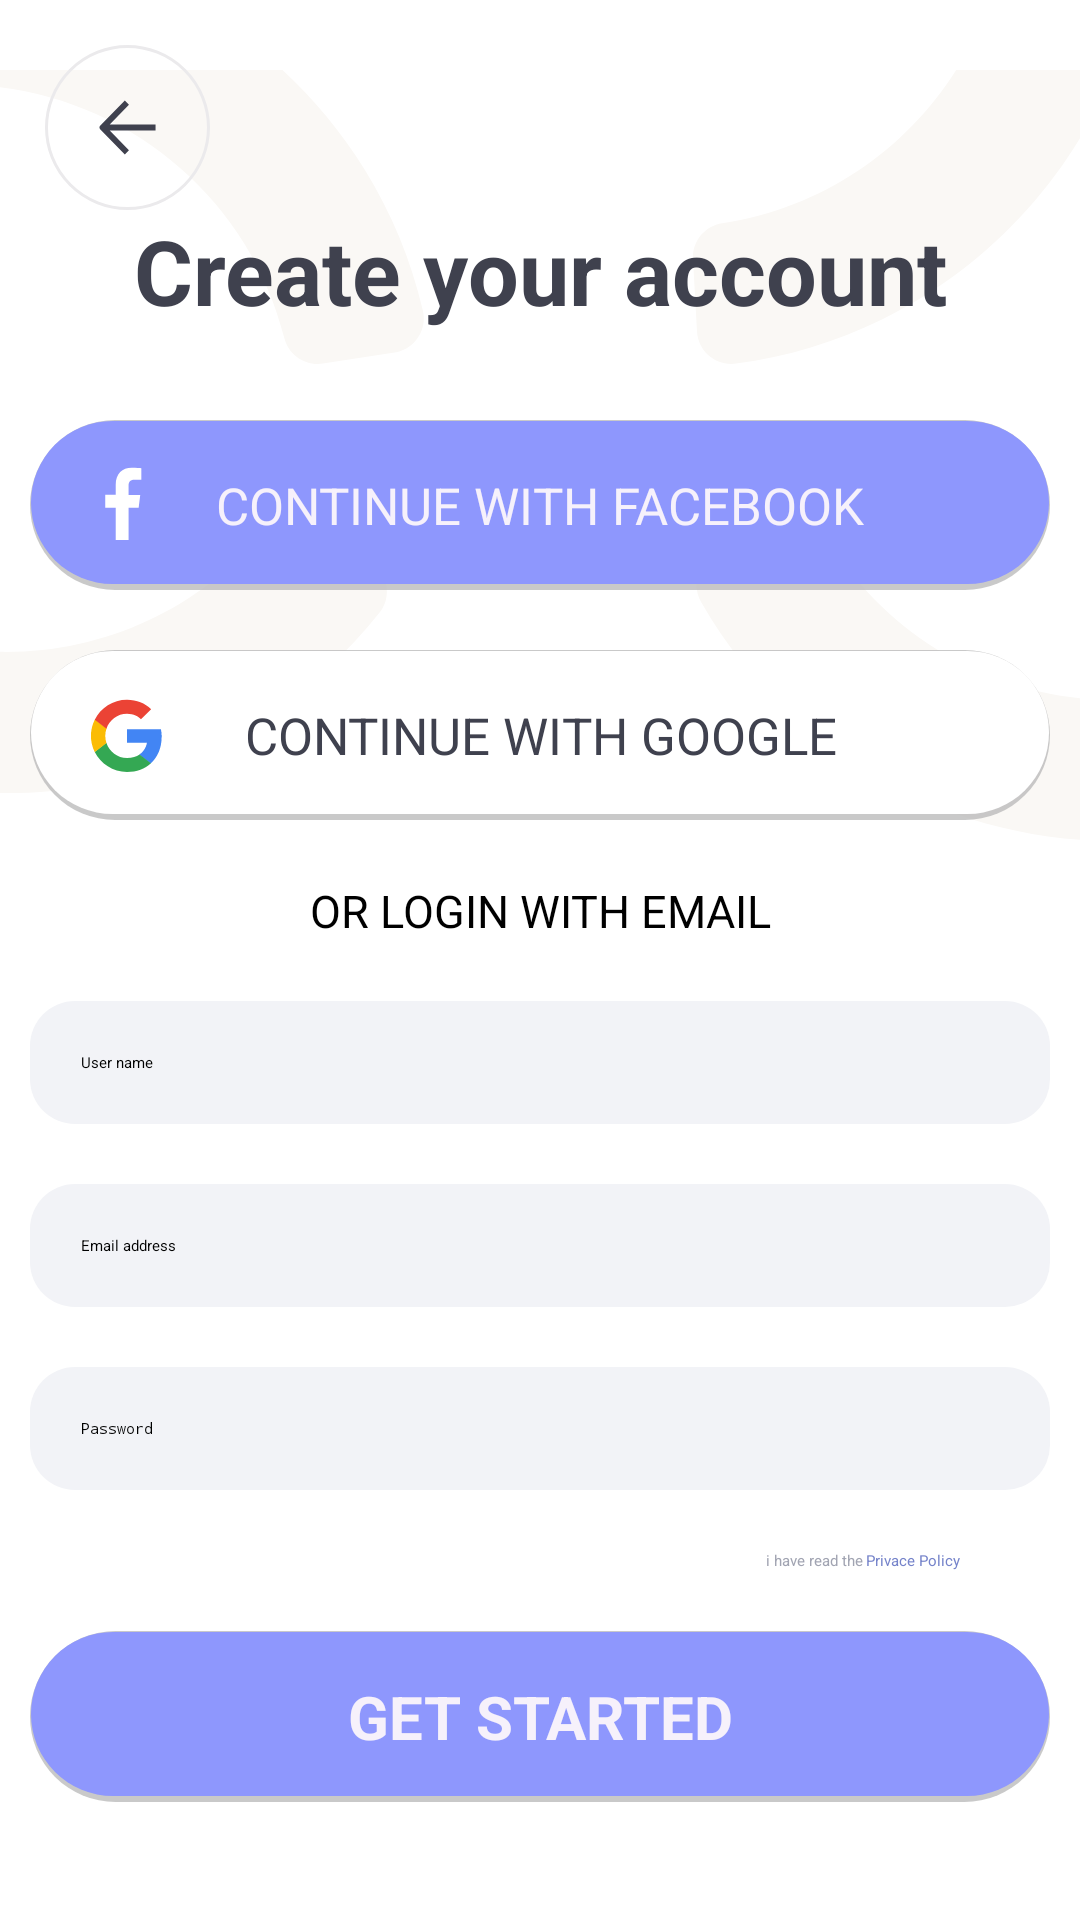

Screen size 1080 x 1920. Icon name, then its center in pixels as (x,y):
back: (127,127)
